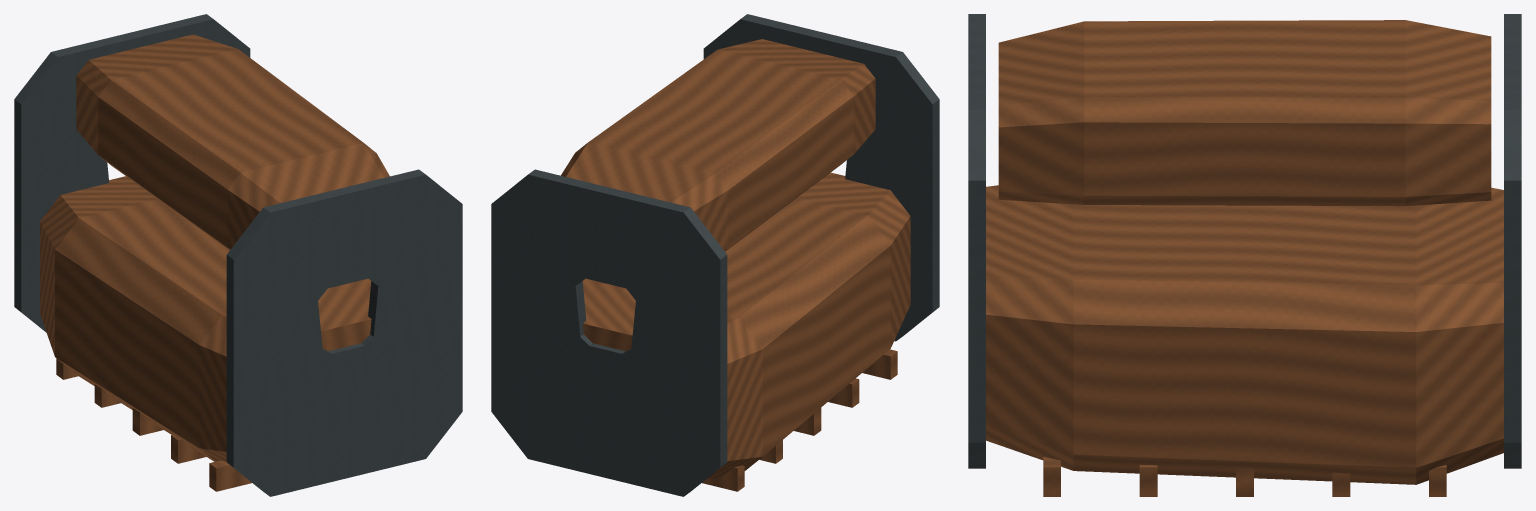
File: aksu_guard.glb
3 views of the same model, side by side, from view 1: azimuth 30°, elevation 25°; view 2: azimuth 150°, elevation 25°; view 3: azimuth 270°, elevation 25° (orthographic). The views are drawn at different scales.
Parts seen in each view (by area): view 1: aksu_guard_lower_palm_shell, aksu_guard_retaining_band; view 2: aksu_guard_lower_palm_shell, aksu_guard_retaining_band; view 3: aksu_guard_lower_palm_shell, aksu_guard_retaining_band.
Part boxes in pixels (<box>): aksu_guard_lower_palm_shell: <box>40,34,389,491</box>; aksu_guard_retaining_band: <box>14,14,462,496</box>; aksu_guard_lower_palm_shell: <box>561,39,910,491</box>; aksu_guard_retaining_band: <box>491,14,939,496</box>; aksu_guard_lower_palm_shell: <box>986,20,1503,496</box>; aksu_guard_retaining_band: <box>968,14,1521,468</box>.
Size of the model in its own units: 0.113 by 0.139 by 0.186.
2 materials, 2 textured.
